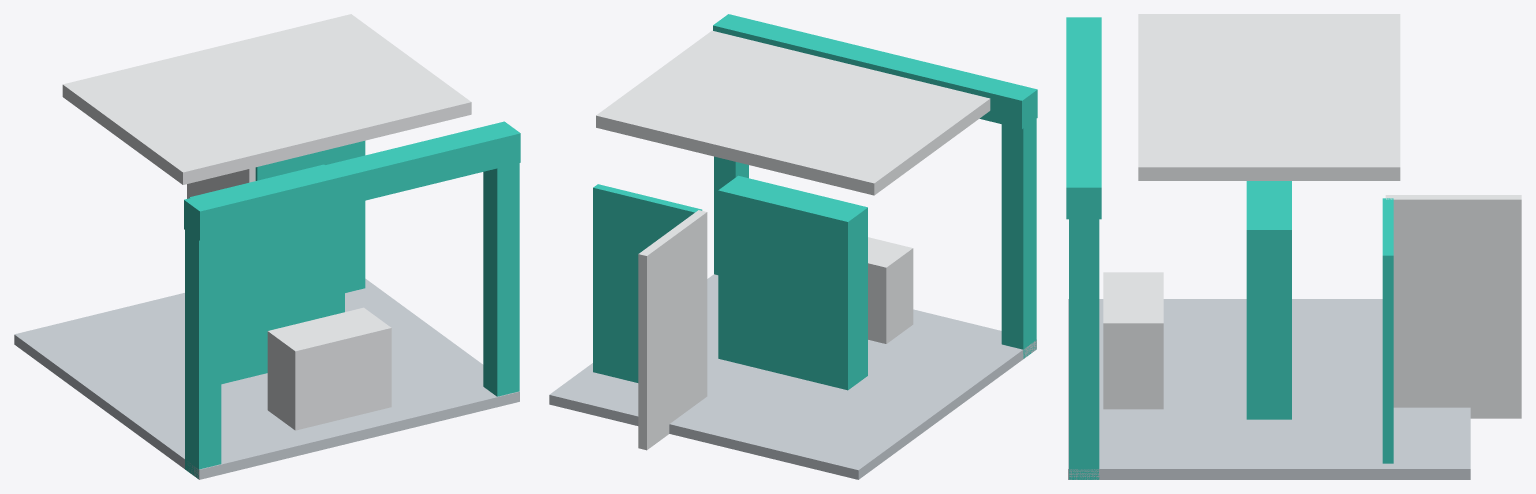
3 views of the same model, side by side, from view 1: azimuth 30°, elevation 25°; view 2: azimuth 150°, elevation 25°; view 3: azimuth 270°, elevation 25° (orthographic). The views are drawn at different scales.
Visible parts, largest first — view 1: Exhibition Booth Concept; view 2: Exhibition Booth Concept; view 3: Exhibition Booth Concept.
Part boxes in pixels (x1,y1,x2,y2): Exhibition Booth Concept: (14,14,520,479); Exhibition Booth Concept: (549,14,1037,479); Exhibition Booth Concept: (1066,14,1521,479).
Size of the model in its own units: 4 by 3.34 by 4.52.
